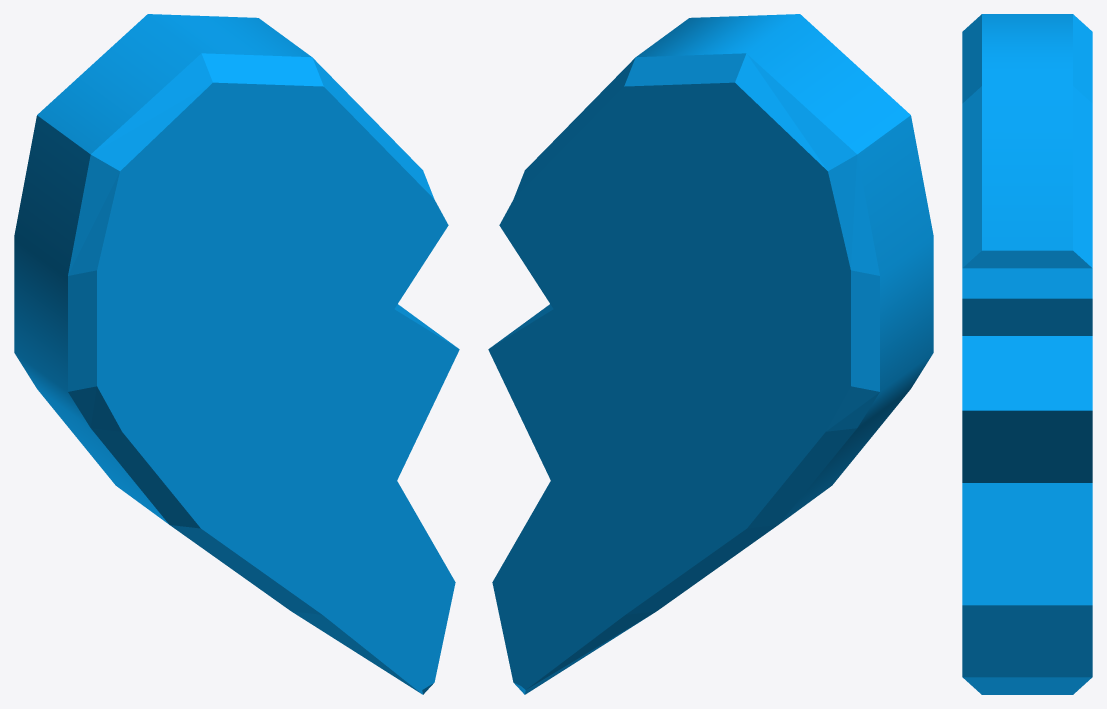
File: BlueHeartLeft.FBX
The picture shows the model from 3 angles, left to right: view 1: azimuth 30°, elevation 25°; view 2: azimuth 150°, elevation 25°; view 3: azimuth 270°, elevation 25°; orthographic projection. The views are drawn at different scales.
Parts seen in each view (by area): view 1: HeartLeftBlue; view 2: HeartLeftBlue; view 3: HeartLeftBlue.
Boxes of the visible parts, x1,y1,x2,y2 form: HeartLeftBlue: [14, 14, 459, 694]; HeartLeftBlue: [488, 14, 933, 694]; HeartLeftBlue: [962, 14, 1092, 694].
Bounding box in the file's own units: 0.1588 × 0.2776 × 0.0555.
